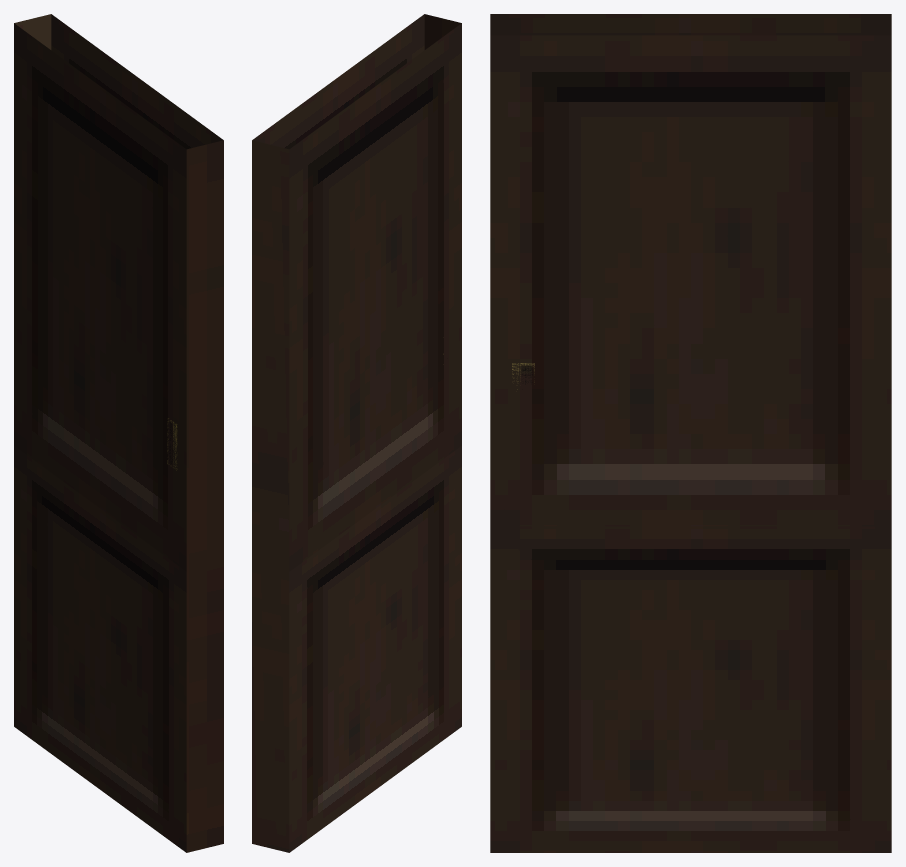
File: primary_192.glb
3 views of the same model, side by side, from view 1: azimuth 30°, elevation 25°; view 2: azimuth 150°, elevation 25°; view 3: azimuth 270°, elevation 25° (orthographic). The views are drawn at different scales.
Parts seen in each view (by area): view 1: Object; view 2: Object; view 3: Object.
Part boxes in pixels (x1,y1,x2,y2): Object: [14, 14, 223, 852]; Object: [252, 14, 461, 852]; Object: [490, 14, 891, 852].
Size of the model in its own units: 0.1506 by 2.71 by 1.2.
Materials: 7 (7 with a texture image).
